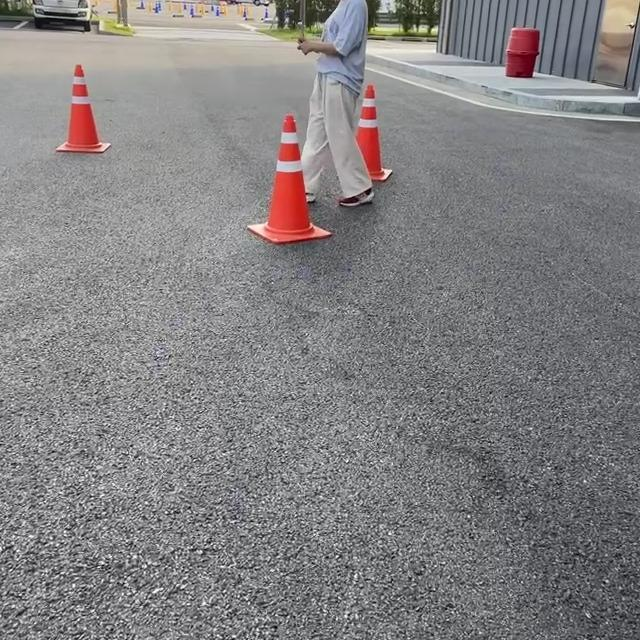fallen_object: (203, 103, 318, 258), (330, 73, 448, 218), (45, 50, 140, 199)
